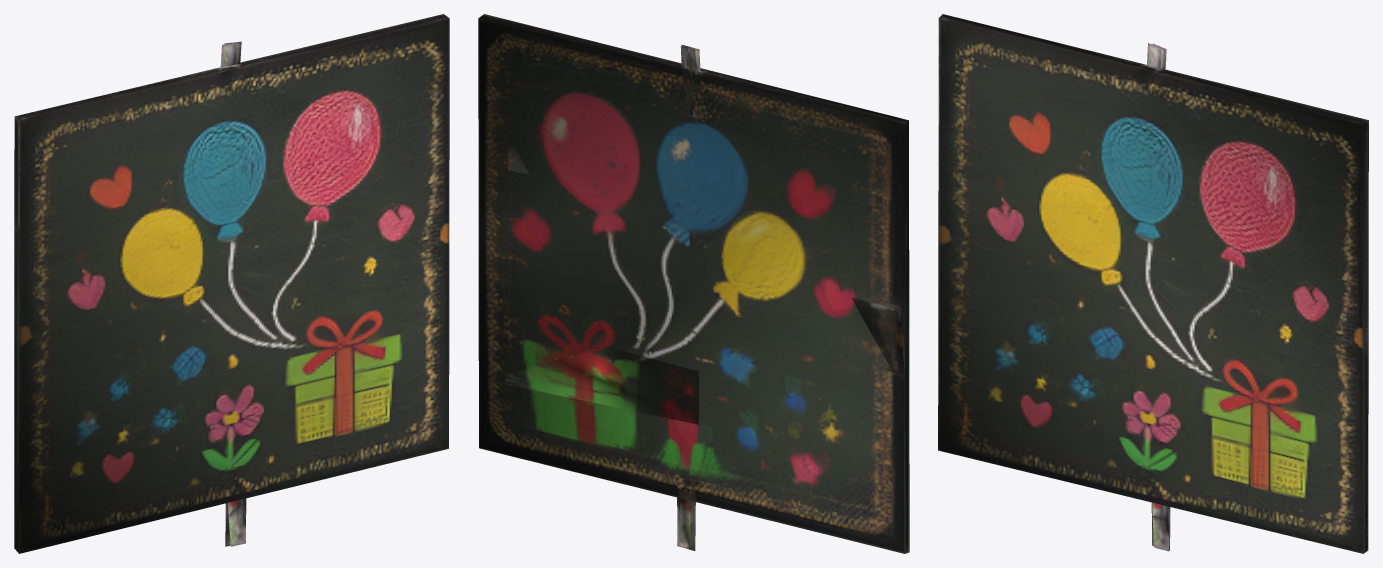
File: all  kids_paintings8.fbx
3 views of the same model, side by side, from view 1: azimuth 30°, elevation 25°; view 2: azimuth 150°, elevation 25°; view 3: azimuth 330°, elevation 25° (orthographic).
Visible parts, largest first — view 1: all kids_paintings8; view 2: all kids_paintings8; view 3: all kids_paintings8.
Boxes of the visible parts, <box> form: all kids_paintings8: <box>14,14,449,553</box>; all kids_paintings8: <box>478,14,909,553</box>; all kids_paintings8: <box>938,14,1368,553</box>.
Bounding box in the file's own units: 133 × 149 × 4.08.
1 material, 1 textured.
